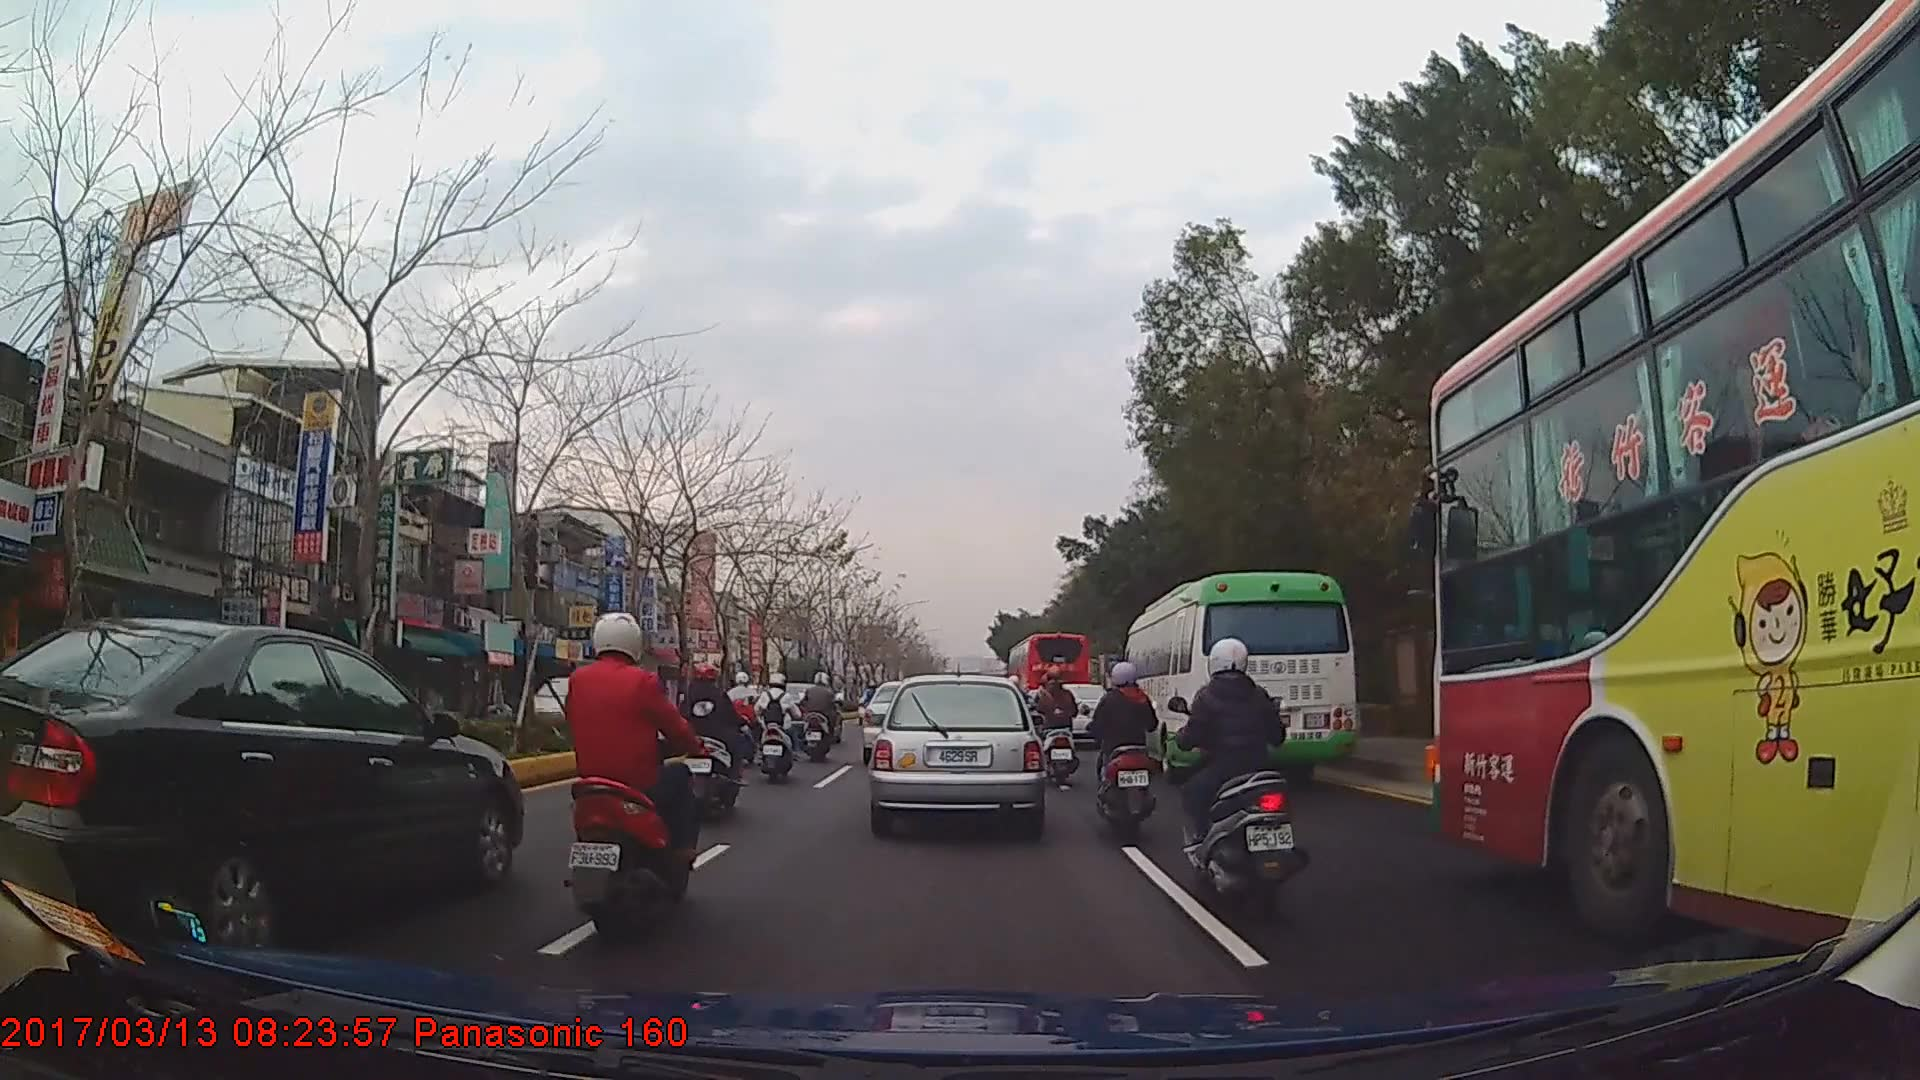rider: (566, 602, 715, 951), (1174, 641, 1312, 913), (1087, 662, 1165, 846), (673, 662, 752, 821), (1037, 661, 1082, 788), (755, 675, 805, 783), (804, 674, 845, 762), (724, 671, 765, 752), (861, 682, 881, 721)
vehicle: (1416, 0, 1920, 968), (0, 613, 522, 959), (1119, 570, 1356, 786), (869, 671, 1041, 831), (1008, 631, 1092, 729)
